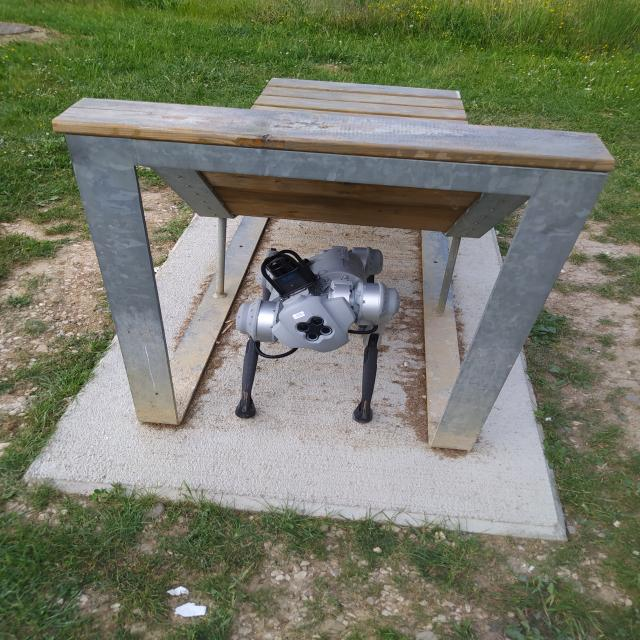unitree-go1-robot: (227, 225, 414, 447)
